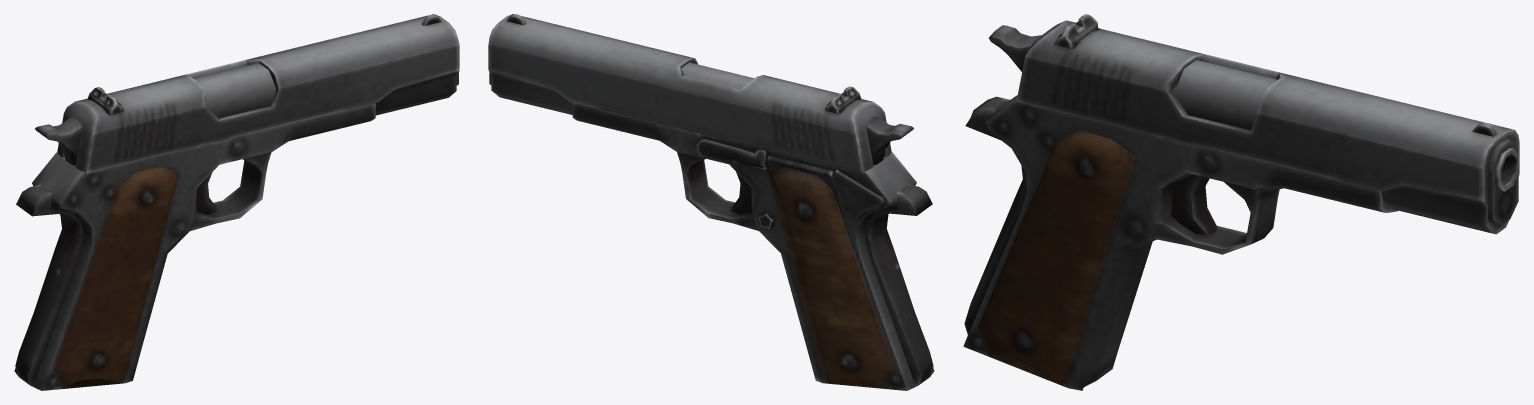
File: pistola.obj
3 renders of one model, left to right at view 1: azimuth 30°, elevation 25°; view 2: azimuth 150°, elevation 25°; view 3: azimuth 330°, elevation 25°, orthographic. The views are drawn at different scales.
Visible parts, largest first — view 1: Cube.006, Cube.005, Cube.004, Cube.008; view 2: Cube.006, Cube.005, Cube.004, Cube.008; view 3: Cube.006, Cube.005, Cube.008, Cube.004.
Boxes of the visible parts, x1,y1,x2,y2 form: Cube.006: (14,42,459,390); Cube.005: (57,14,459,173); Cube.004: (35,117,82,165); Cube.008: (196,172,217,214); Cube.006: (572,62,934,390); Cube.005: (488,14,891,172); Cube.004: (866,117,913,165); Cube.008: (730,172,751,214); Cube.006: (963,60,1519,390); Cube.005: (1017,14,1519,234); Cube.008: (1171,174,1217,235); Cube.004: (989,25,1041,71).
Size of the model in its own units: 22.38 by 14.11 by 3.22.
